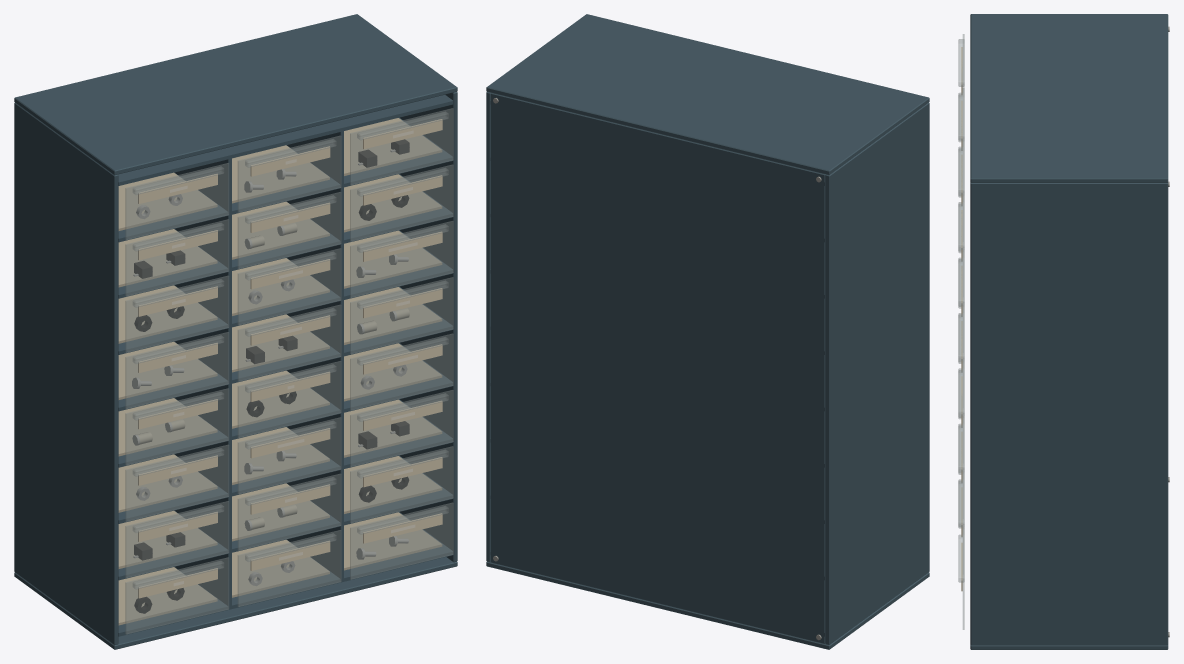
Rendered from parts-drawer-cabinet-797bbbf436e8.glb.
3 renders of one model, left to right at view 1: azimuth 30°, elevation 25°; view 2: azimuth 150°, elevation 25°; view 3: azimuth 270°, elevation 25°, orthographic.
Visible parts, largest first — view 1: enamel-blue, glass-clear, plastic-light, paper, brushed, plastic-dark, rubber, decal-ink; view 2: enamel-blue; view 3: enamel-blue, glass-clear, paper.
Part boxes in pixels (left/top/right/bottom): enamel-blue: left=14, top=14, right=457, bottom=649; glass-clear: left=125, top=108, right=453, bottom=634; plastic-light: left=118, top=118, right=442, bottom=625; paper: left=138, top=119, right=442, bottom=598; brushed: left=132, top=147, right=409, bottom=585; plastic-dark: left=134, top=139, right=409, bottom=560; rubber: left=134, top=195, right=409, bottom=613; decal-ink: left=169, top=130, right=417, bottom=586; enamel-blue: left=486, top=14, right=929, bottom=649; enamel-blue: left=970, top=14, right=1168, bottom=649; glass-clear: left=958, top=34, right=964, bottom=629; paper: left=961, top=47, right=962, bottom=591.
Bounding box in the file's own units: 0.3 × 0.4 × 0.1624.
